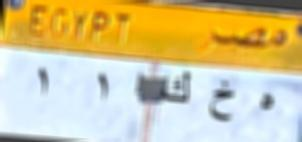1: (89, 68, 115, 106), (32, 65, 58, 103)
haa: (254, 83, 278, 119)
kaaf: (158, 68, 196, 109)
khaa: (207, 77, 236, 124)
